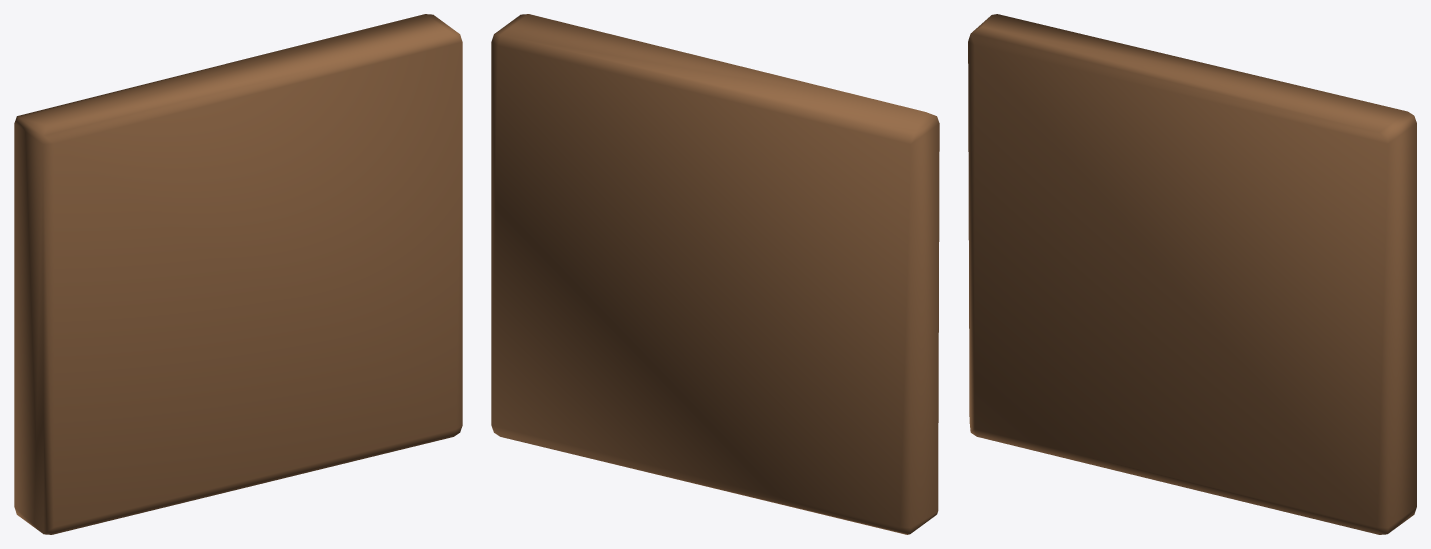
File: farm_plot_empty.glb
The picture shows the model from 3 angles, left to right: view 1: azimuth 30°, elevation 25°; view 2: azimuth 150°, elevation 25°; view 3: azimuth 330°, elevation 25°; orthographic projection.
Parts seen in each view (by area): view 1: Soil; view 2: Soil; view 3: Soil.
Part boxes in pixels (x1,y1,x2,y2): Soil: (14, 14, 462, 534); Soil: (491, 14, 939, 534); Soil: (968, 14, 1416, 534).
Size of the model in its own units: 1.19 by 1.1 by 0.1601.
